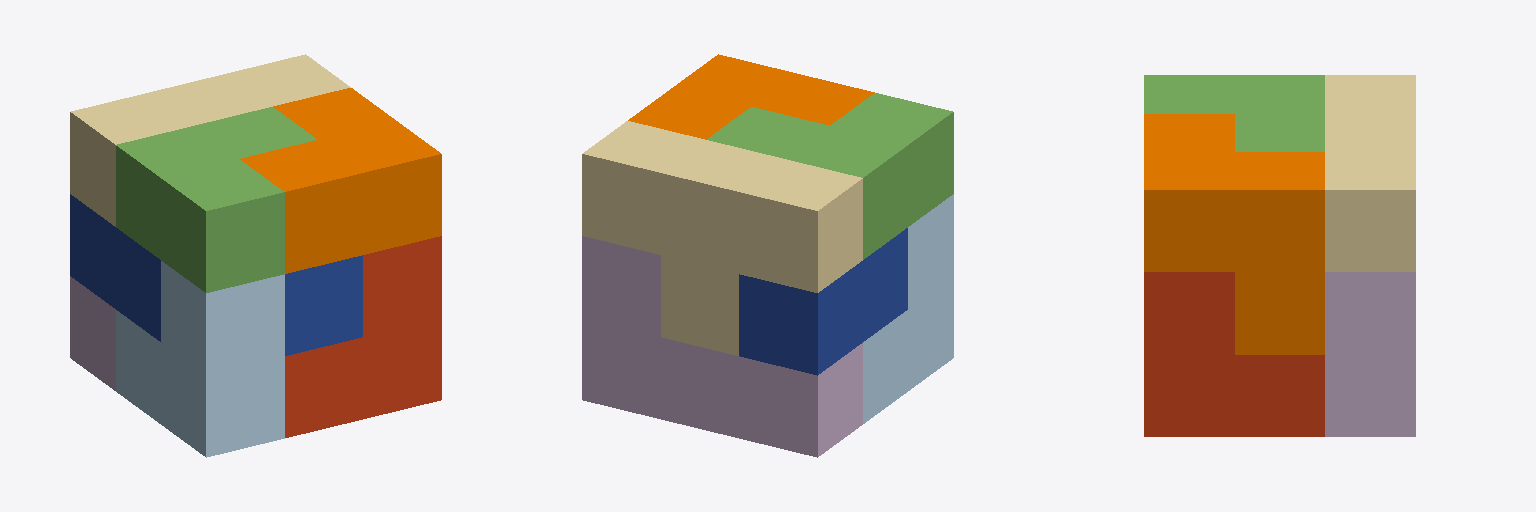
Rendered from E2-Soma.obj.
3 views of the same model, side by side, from view 1: azimuth 30°, elevation 25°; view 2: azimuth 150°, elevation 25°; view 3: azimuth 270°, elevation 25° (orthographic).
Parts seen in each view (by area): view 1: mesh59, mesh45, mesh55, mesh41, mesh31, mesh1, mesh51, mesh26, mesh35, mesh34, mesh21, mesh2 (+1 smaller); view 2: mesh14, mesh6, mesh41, mesh1, mesh51, mesh31, mesh35, mesh26, mesh27, mesh10, mesh2; view 3: mesh60, mesh50, mesh12, mesh31, mesh1, mesh51, mesh0.
Part boxes in pixels (left/top/right/bottom): mesh59: left=285, top=236, right=441, bottom=437; mesh45: left=206, top=274, right=284, bottom=457; mesh55: left=285, top=154, right=441, bottom=273; mesh41: left=116, top=261, right=205, bottom=456; mesh31: left=116, top=107, right=317, bottom=210; mesh1: left=71, top=54, right=350, bottom=144; mesh51: left=240, top=88, right=440, bottom=191; mesh26: left=70, top=194, right=160, bottom=341; mesh35: left=116, top=146, right=205, bottom=292; mesh34: left=206, top=192, right=284, bottom=292; mesh21: left=285, top=255, right=362, bottom=355; mesh2: left=70, top=112, right=115, bottom=226; mesh14: left=582, top=236, right=817, bottom=457; mesh6: left=582, top=154, right=817, bottom=355; mesh41: left=863, top=194, right=953, bottom=423; mesh1: left=583, top=121, right=862, bottom=210; mesh51: left=628, top=54, right=874, bottom=139; mesh31: left=706, top=93, right=952, bottom=177; mesh35: left=863, top=112, right=953, bottom=259; mesh26: left=818, top=228, right=907, bottom=374; mesh27: left=739, top=274, right=817, bottom=375; mesh10: left=818, top=343, right=862, bottom=456; mesh2: left=818, top=179, right=862, bottom=292; mesh60: left=1144, top=272, right=1324, bottom=436; mesh50: left=1144, top=190, right=1324, bottom=354; mesh12: left=1325, top=272, right=1415, bottom=436; mesh31: left=1144, top=75, right=1324, bottom=151; mesh1: left=1325, top=75, right=1415, bottom=189; mesh51: left=1144, top=114, right=1324, bottom=189; mesh0: left=1325, top=190, right=1415, bottom=271.
Bounding box in the file's own units: 0.054 × 0.054 × 0.054.